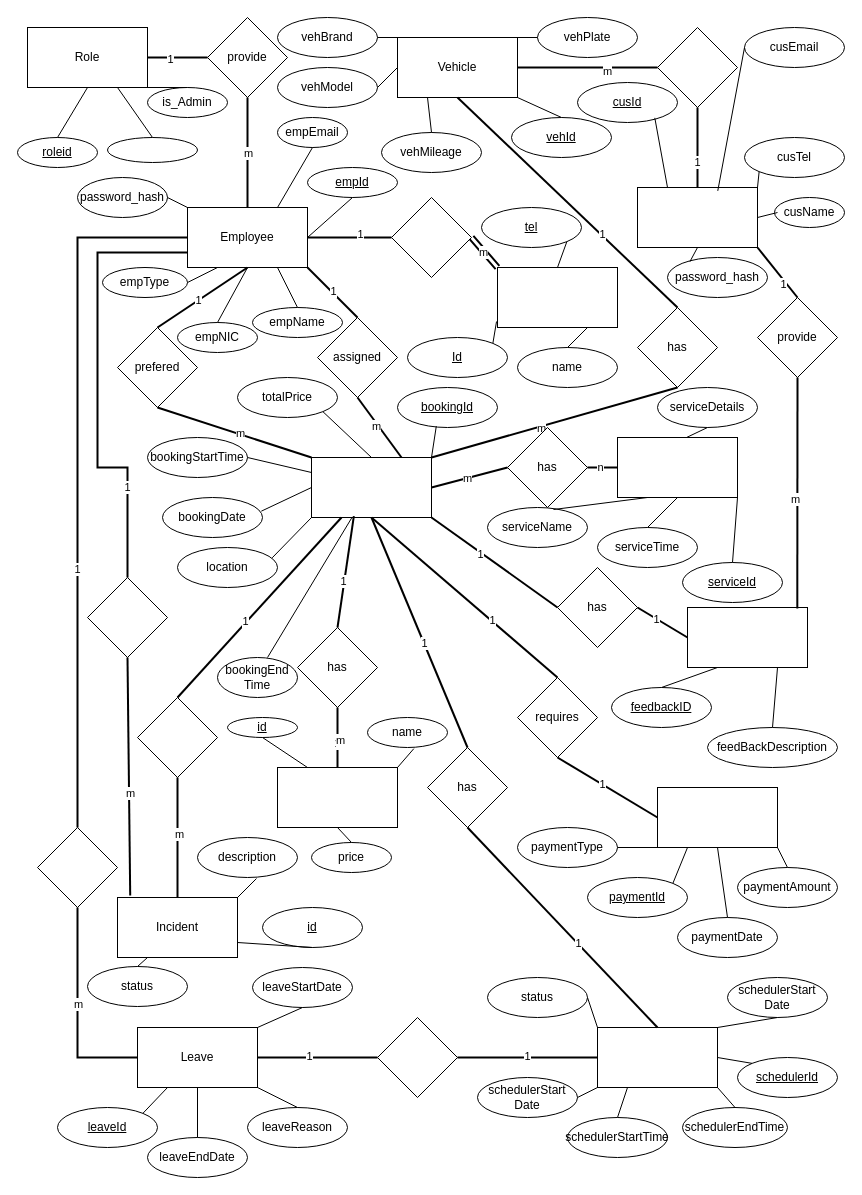
This 862x1195 diagram has some shape labels left out. Here are the shapes that lost their labels. From the top down, the centre of each, then its label:
At (x=697, y=67): "own".
At (x=152, y=149): "roleName".
At (x=431, y=237): "contact".
At (x=697, y=217): "Customer".
At (x=557, y=297): "Dependant".
At (x=371, y=487): "Booking".
At (x=677, y=467): "Service".
At (x=127, y=617): "report".
At (x=747, y=637): "Feedback".
At (x=177, y=737): "record".
At (x=337, y=797): "Service Extras".
At (x=717, y=817): "Payment".
At (x=77, y=867): "request".
At (x=417, y=1057): "scheduled".
At (x=657, y=1057): "Schedule".
